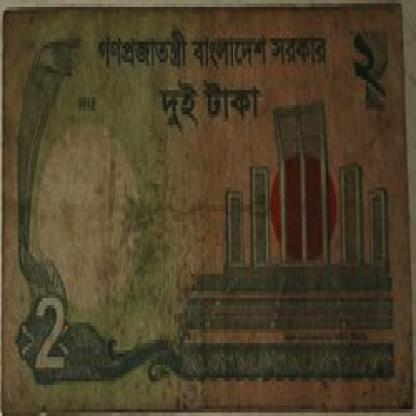two taka: (30, 288, 76, 388), (351, 21, 384, 100)
